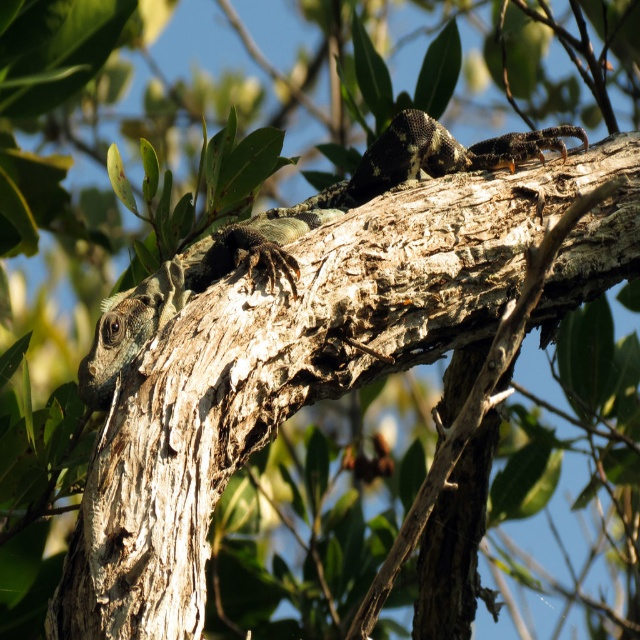Lizard: (82, 147, 590, 382)
